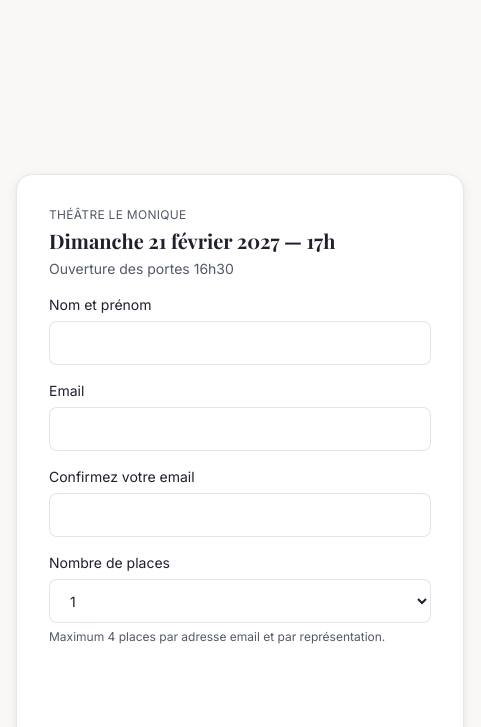
Test: request › the body is exactly {showId, name, email, quantity, turnstileToken, website}
The image size is (481, 727).
Earlier steps of the test are not shown.
(page scrolled)
Type "Jean Dupont" into the field labelled "Nom et prénom" at (240, 343), box [49,321,431,365]
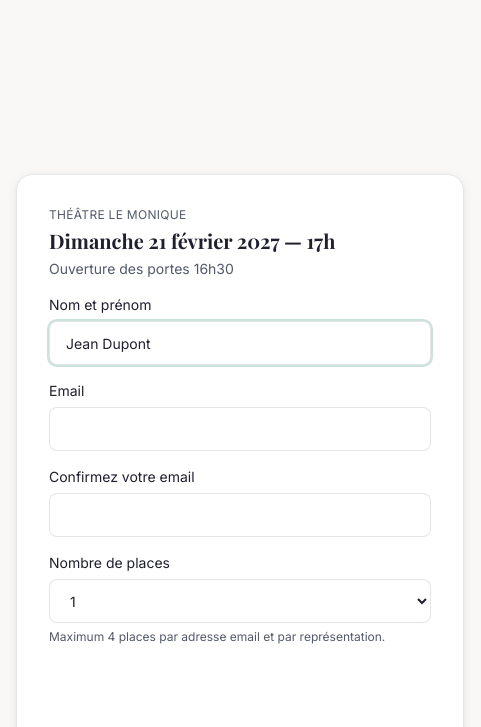
Type "jean@example.com" into the field labelled "Email" at (240, 429), box [49,407,431,451]
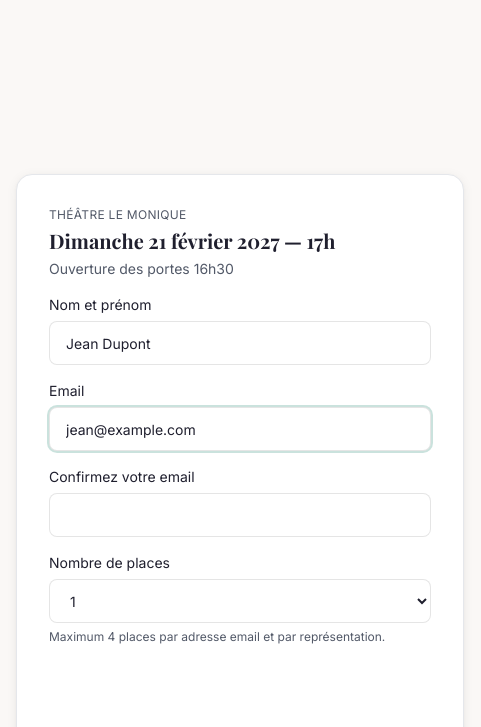
Type "jean@example.com" into the field labelled "Confirmez votre email" at (240, 515), box [49,493,431,537]
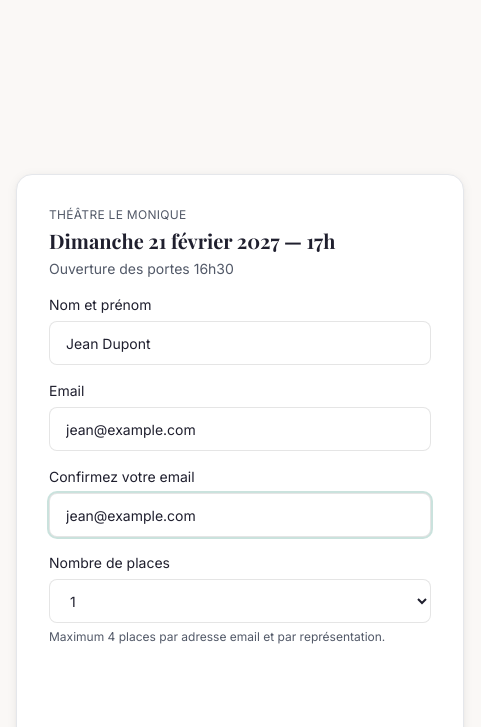
Select "3" in the dropdown labelled "Nombre de places" at (240, 601), box [49,579,431,623]
(page scrolled)
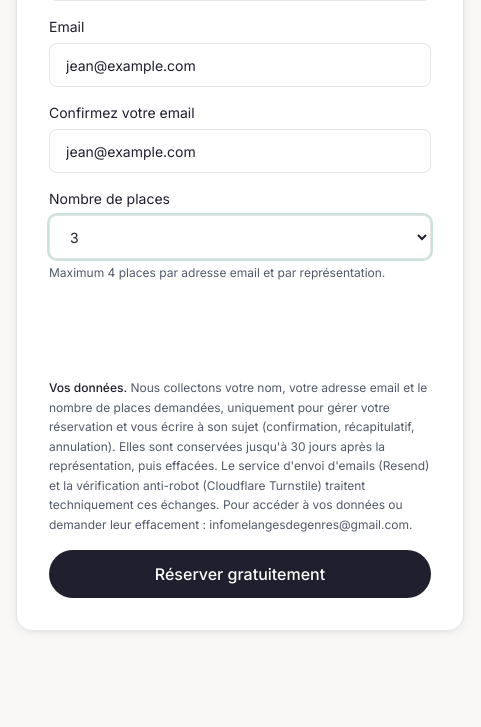
Click the button "Réserver gratuitement" at (240, 574), box [49,550,431,598]
(page scrolled)
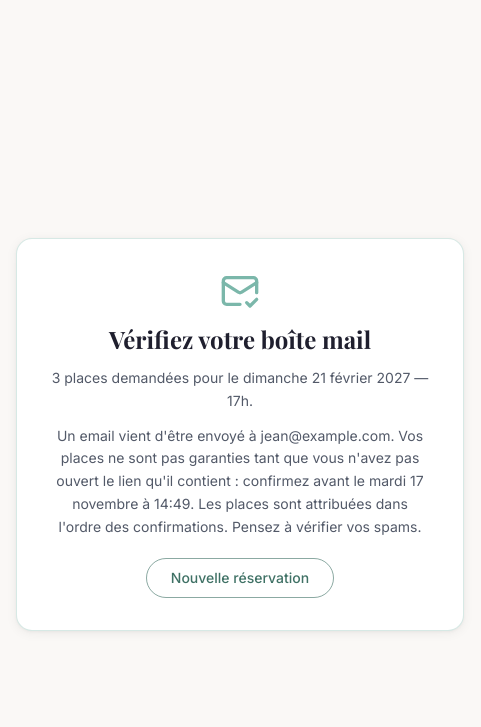
Now the heading "Vérifiez votre boîte mail" is shown, box [109,323,371,355]
